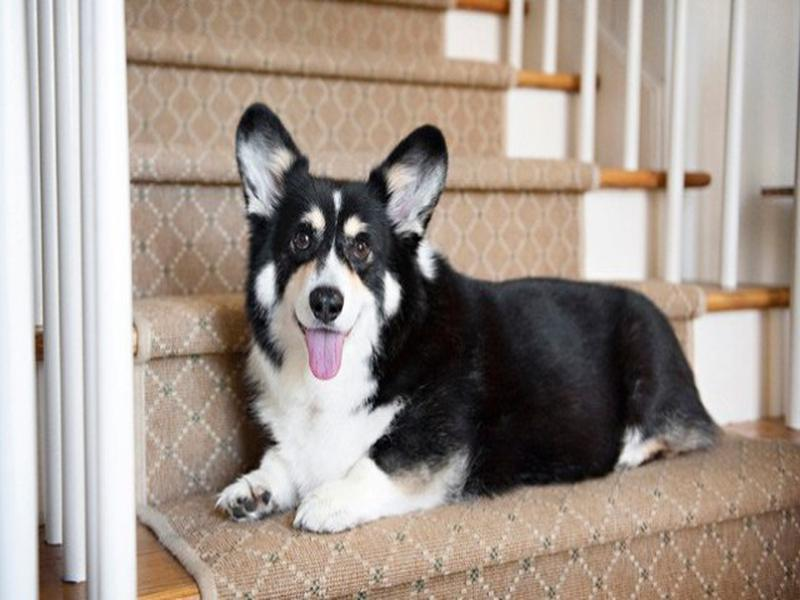corgi: (234, 101, 453, 380)
